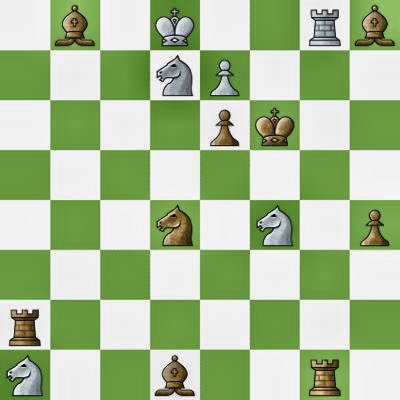black-bishop: (50, 0, 100, 50), (350, 0, 400, 50), (150, 350, 200, 400)
black-king: (250, 100, 300, 150)
black-knight: (150, 200, 200, 250)
black-pawn: (200, 100, 250, 150), (350, 200, 400, 250)
black-rook: (0, 300, 50, 350), (300, 350, 350, 400)
white-king: (150, 0, 200, 50)
white-knight: (150, 50, 200, 100), (250, 200, 300, 250), (0, 350, 50, 400)
white-pawn: (200, 50, 250, 100)
white-rook: (300, 0, 350, 50)
